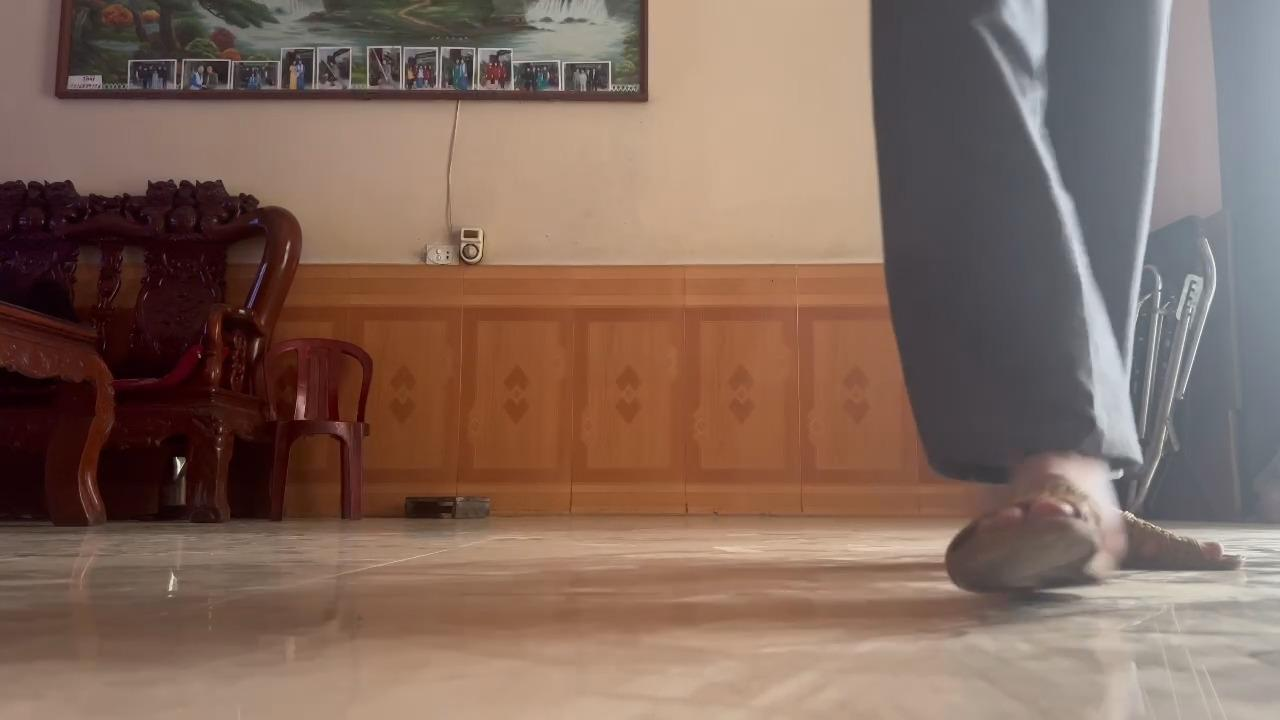no-boot: (932, 455, 1131, 603), (1135, 506, 1242, 581)
